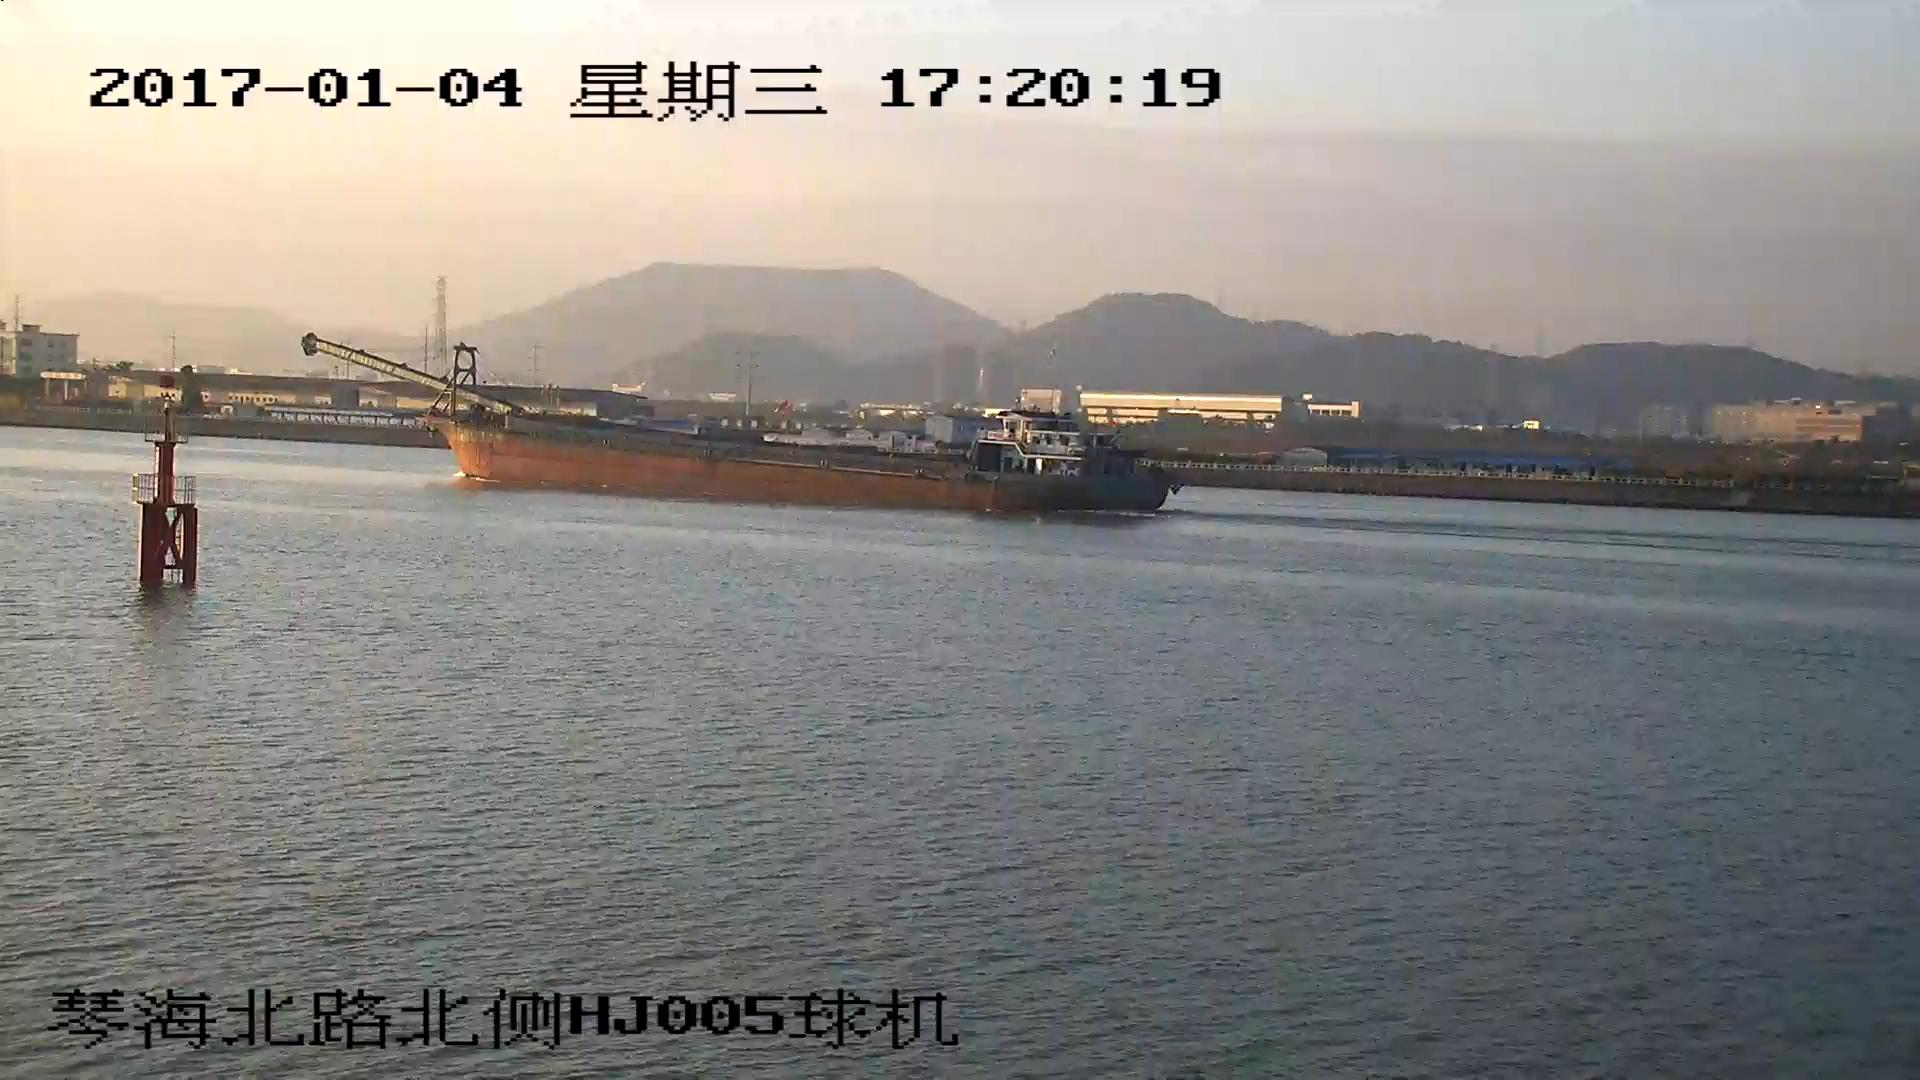bulk cargo carrier: (307, 343, 1176, 517)
